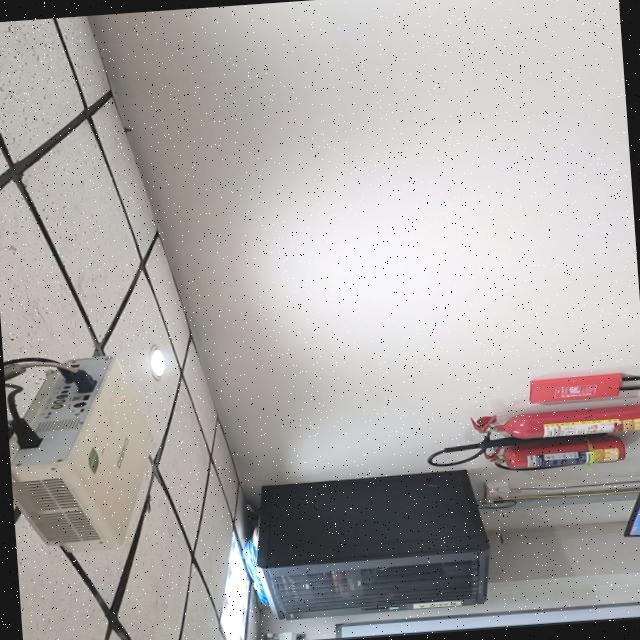Fire Extinguisher: (470, 404, 640, 439), (484, 437, 624, 469)
Light: (219, 535, 248, 640), (146, 345, 165, 380)
Monitor: (622, 492, 640, 537)
Projector: (8, 356, 149, 551)
